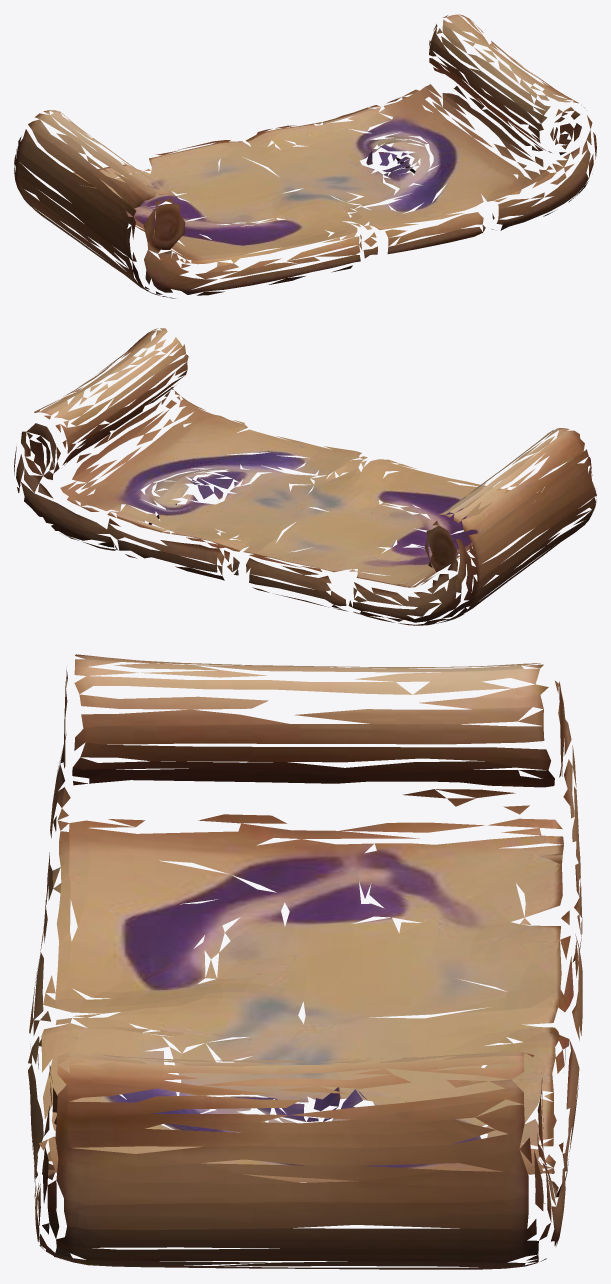
The model's file is open_scroll.glb.
3 renders of one model, top to bottom at view 1: azimuth 30°, elevation 25°; view 2: azimuth 150°, elevation 25°; view 3: azimuth 270°, elevation 25°, orthographic. The views are drawn at different scales.
Visible parts, largest first — view 1: world; view 2: world; view 3: world.
Boxes of the visible parts, x1,y1,x2,y2 form: world: (14,14,596,298); world: (14,328,596,625); world: (28,654,582,1269).
Size of the model in its own units: 0.999 by 0.2425 by 0.5212.
1 material, 1 textured.
